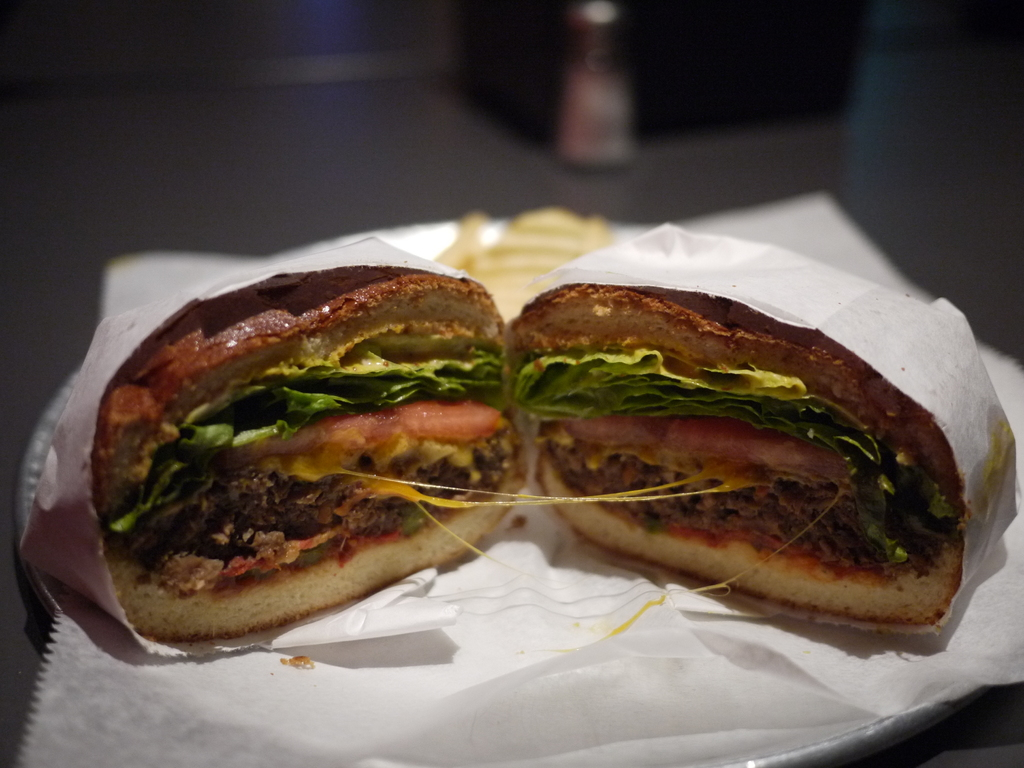Hamburger: (90, 265, 524, 642), (503, 284, 961, 621)
